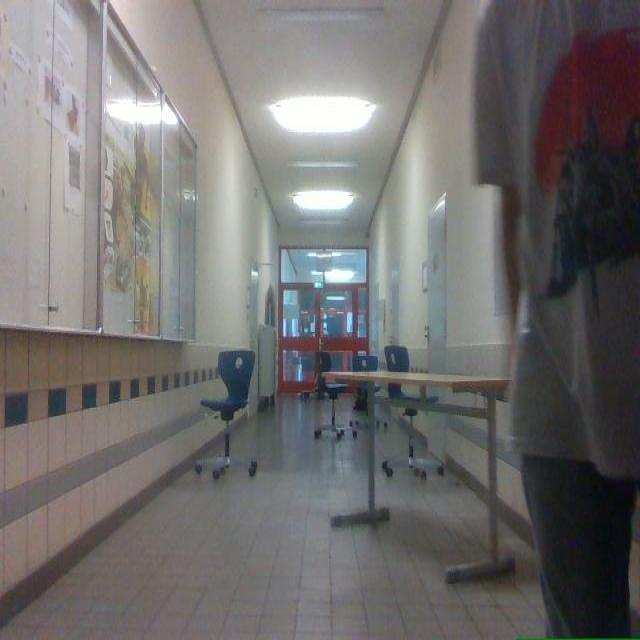objects: (195, 350, 257, 478), (382, 408, 443, 478), (314, 352, 356, 438), (298, 352, 322, 401), (352, 355, 378, 371), (352, 355, 377, 371)
